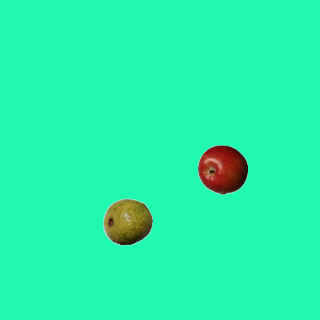Apple Braeburn: (197, 144, 247, 194)
Guava: (102, 196, 152, 246)
